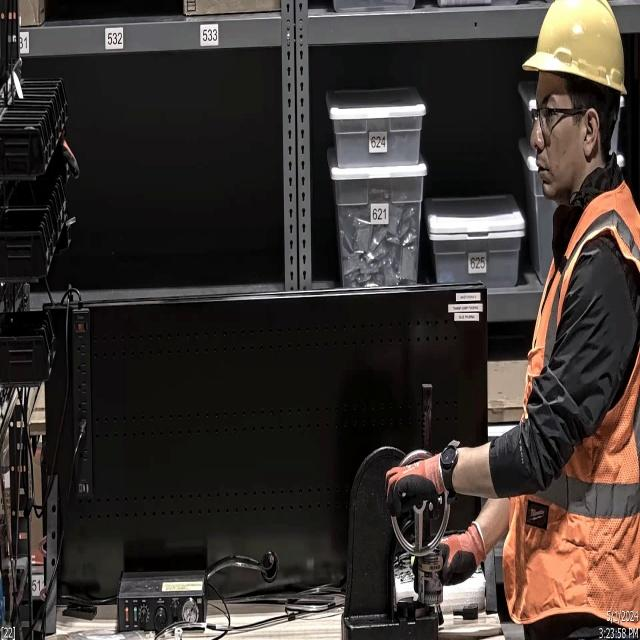construction-gloves: (409, 516, 494, 602), (385, 443, 460, 522)
